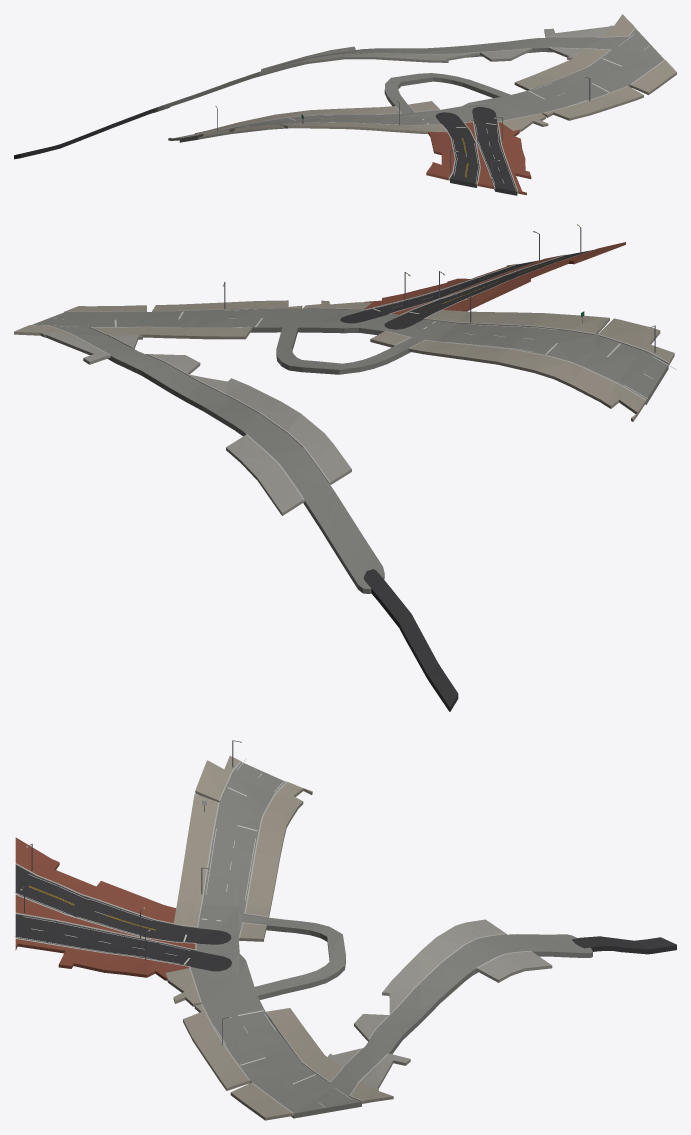
The model's file is 18-218872-118971.3ce7ece9.glb.
3 renders of one model, top to bottom at view 1: azimuth 30°, elevation 25°; view 2: azimuth 150°, elevation 25°; view 3: azimuth 270°, elevation 25°, orthographic. The views are drawn at different scales.
Size of the model in its own units: 149 by 53.02 by 146.
